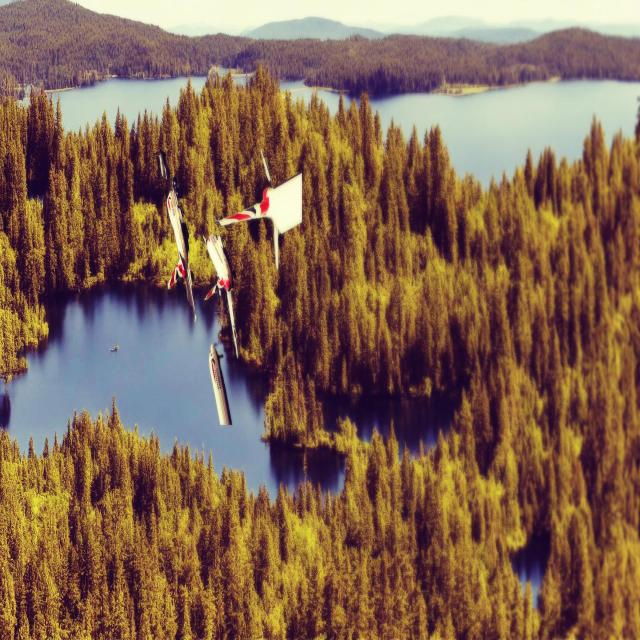airplane: (214, 149, 303, 271), (153, 149, 197, 322), (201, 232, 239, 359), (204, 341, 230, 425)
